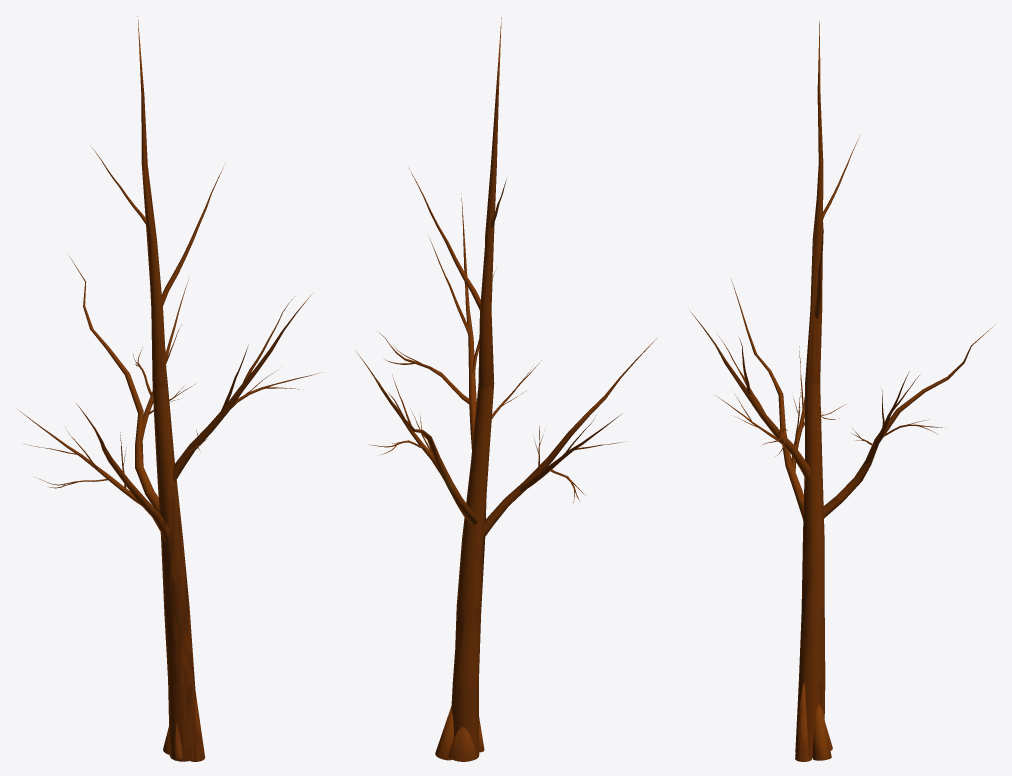
Rendered from Tree.fbx.
The picture shows the model from 3 angles, left to right: view 1: azimuth 30°, elevation 25°; view 2: azimuth 150°, elevation 25°; view 3: azimuth 270°, elevation 25°; orthographic projection. The views are drawn at different scales.
Parts seen in each view (by area): view 1: node_id4; view 2: node_id4; view 3: node_id4.
Boxes of the visible parts, x1,y1,x2,y2 form: node_id4: [18, 16, 319, 761]; node_id4: [355, 17, 656, 761]; node_id4: [689, 21, 995, 761].
Size of the model in its own units: 0.1903 by 0.4896 by 0.1904.
1 material, 1 textured.
